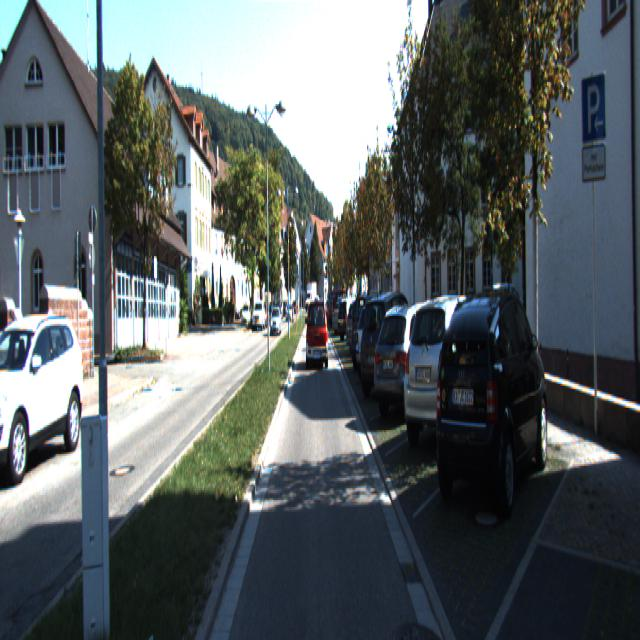Car: (432, 287, 550, 529), (402, 294, 502, 460), (0, 317, 88, 487), (369, 303, 448, 424), (358, 292, 423, 401), (354, 299, 414, 384), (348, 294, 400, 374), (306, 301, 328, 371), (332, 298, 359, 332), (328, 292, 352, 328), (252, 302, 266, 331), (270, 307, 282, 336)
